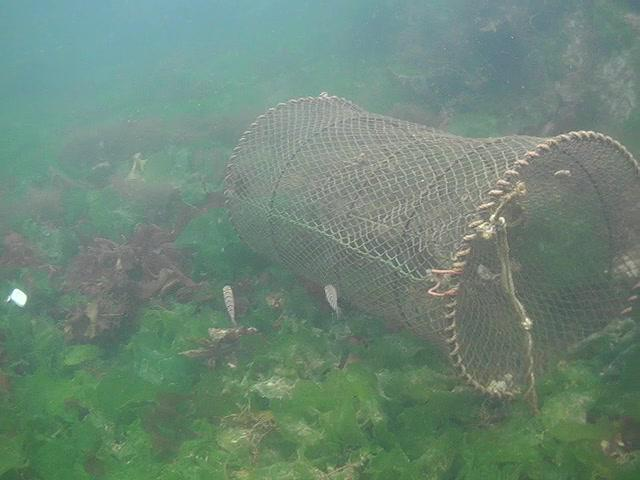spring fish trap: (222, 94, 640, 406)
